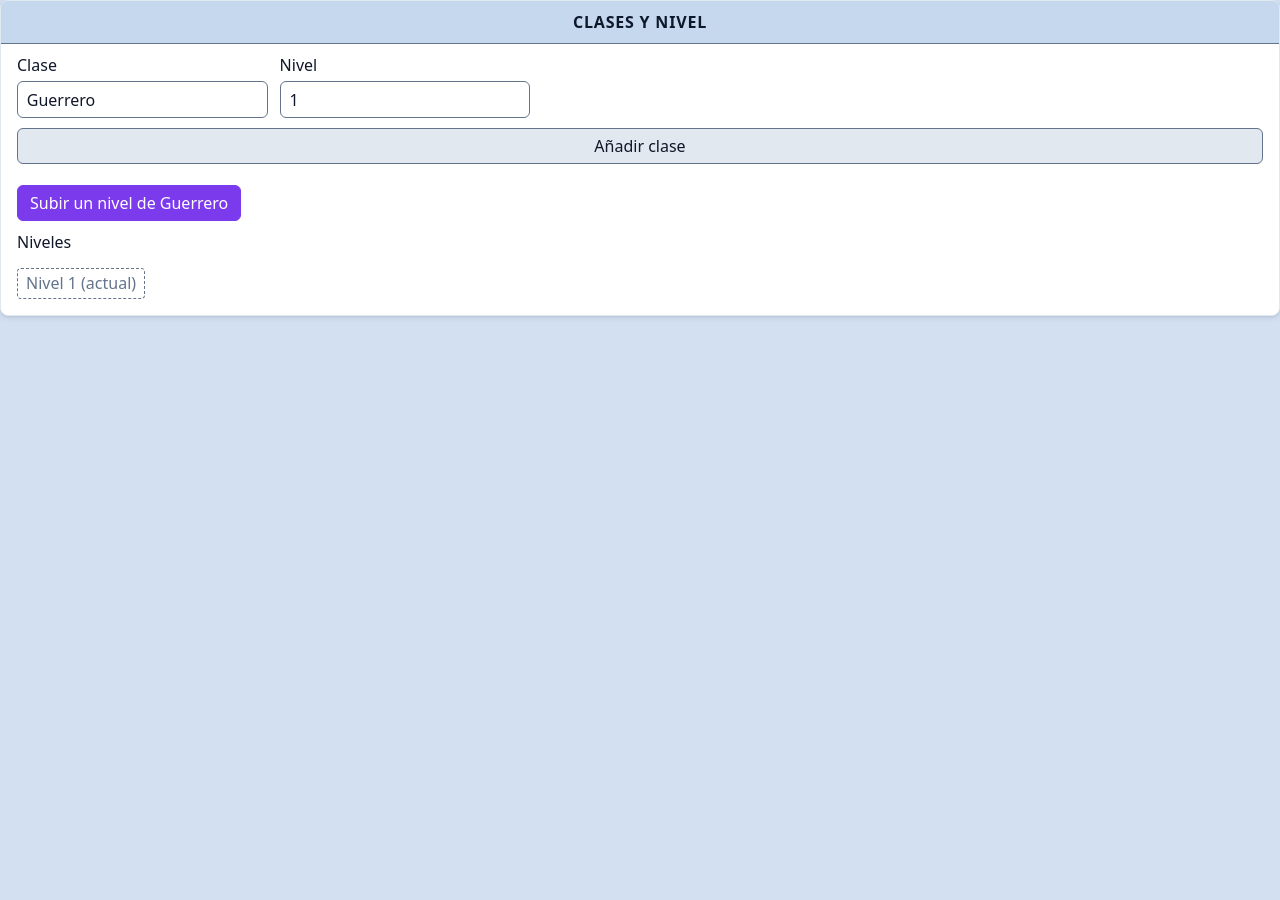
ClassesSection › reports what the next level buys, and changes nothing
Click the button "Subir un nivel de Guerrero": click(129, 203) x1=17 y1=185 x2=241 y2=221
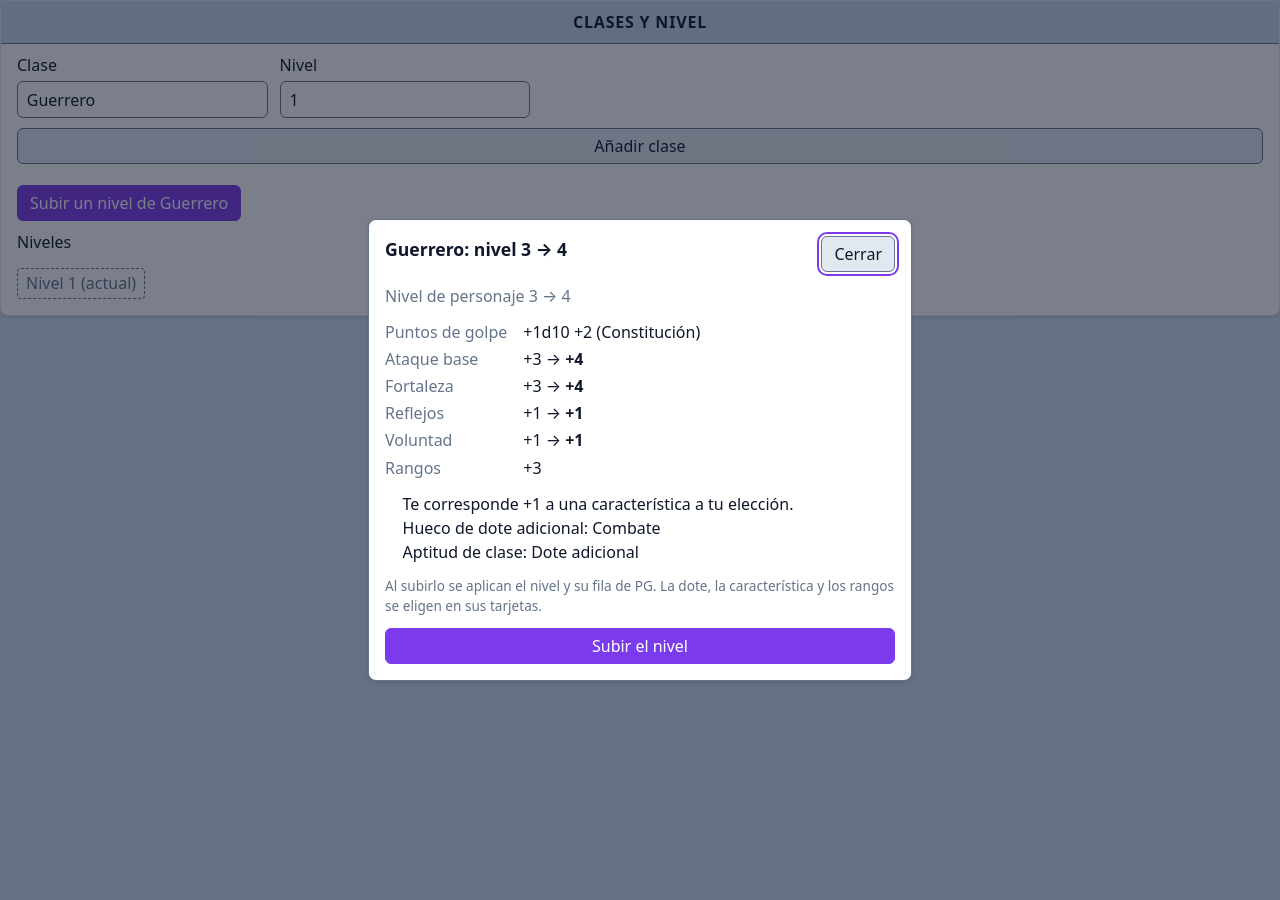
Expected: the dialog shows "+3 → +4", x1=368 y1=219 x2=912 y2=681
Expected: the dialog shows "+1d10 +2", x1=523 y1=321 x2=700 y2=343
Expected: the dialog shows "característica", x1=403 y1=493 x2=794 y2=515
